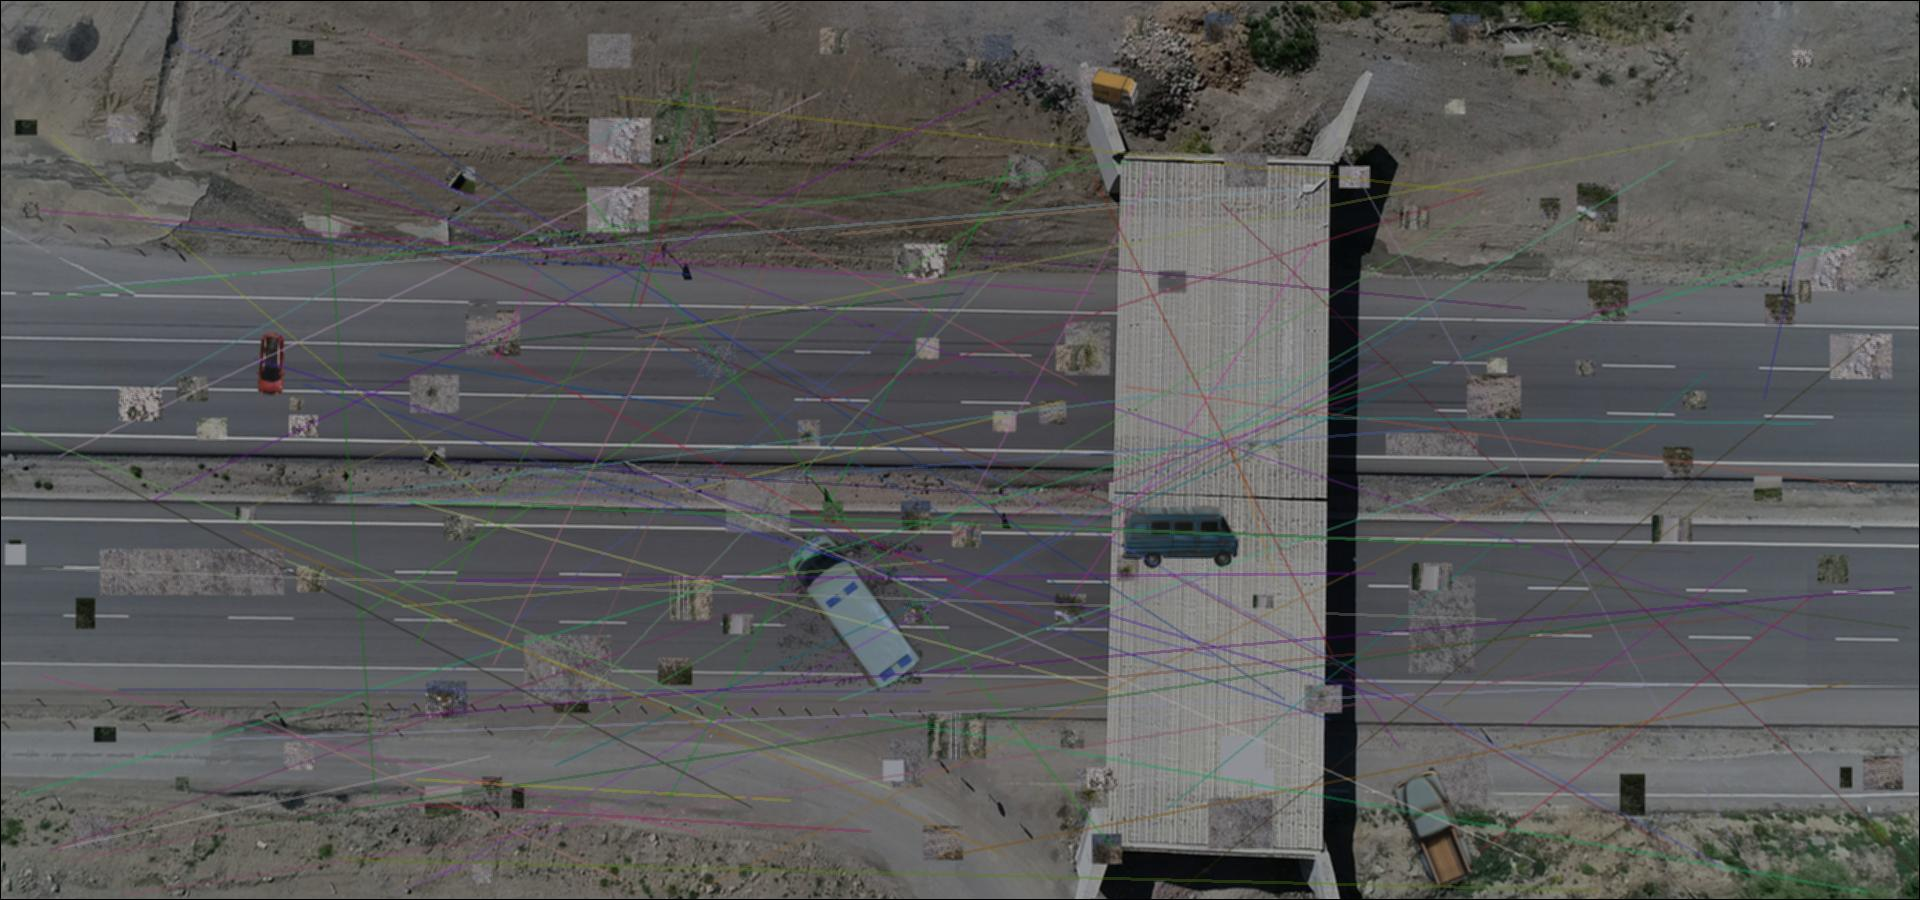arac: (778, 533, 922, 692), (1391, 768, 1477, 890), (1120, 504, 1239, 569), (1090, 70, 1140, 111), (255, 333, 287, 397)
